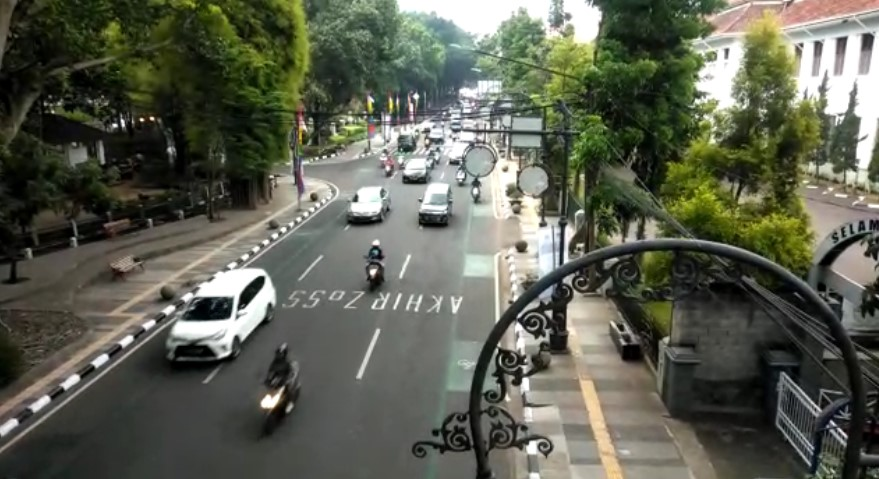mobil: (163, 264, 278, 363), (346, 182, 395, 229), (416, 182, 457, 225)
motor: (258, 348, 305, 431), (364, 239, 389, 293)
